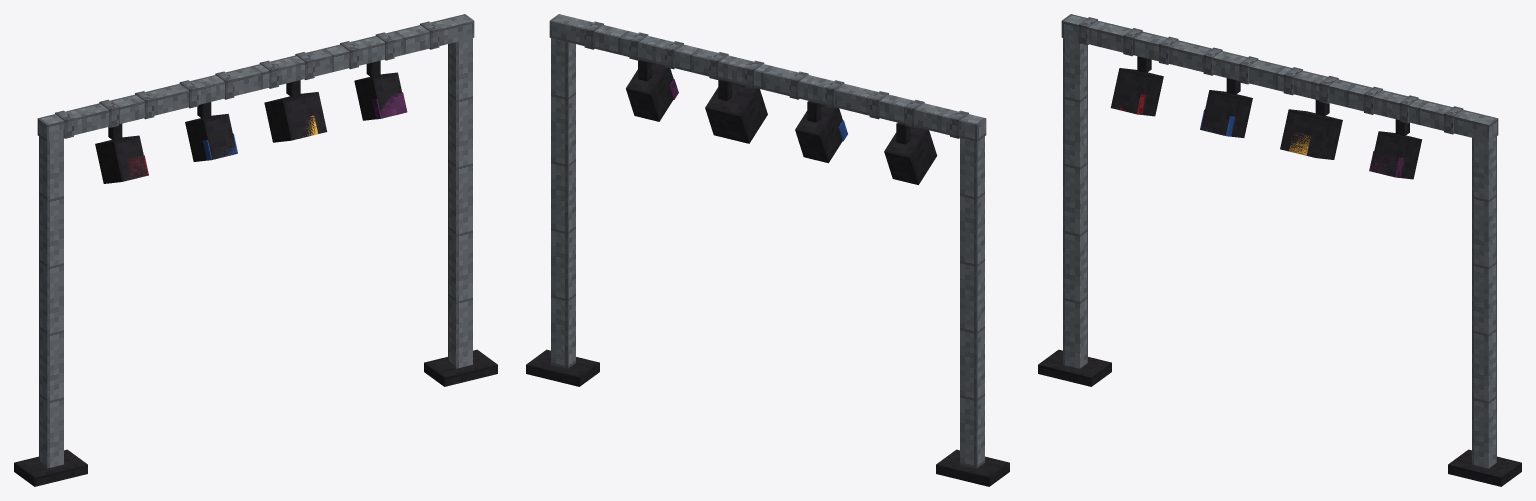
The model's file is stageLightRig.glb.
The picture shows the model from 3 angles, left to right: view 1: azimuth 30°, elevation 25°; view 2: azimuth 150°, elevation 25°; view 3: azimuth 330°, elevation 25°; orthographic projection.
Visible parts, largest first — view 1: stageLightRig_0; view 2: stageLightRig_0; view 3: stageLightRig_0.
Part boxes in pixels (x1,y1,x2,y2): stageLightRig_0: [14, 14, 497, 486]; stageLightRig_0: [526, 14, 1009, 486]; stageLightRig_0: [1038, 14, 1521, 486].
Size of the model in its own units: 3.25 by 2.38 by 0.3418.
Materials: 1 (1 with a texture image).
